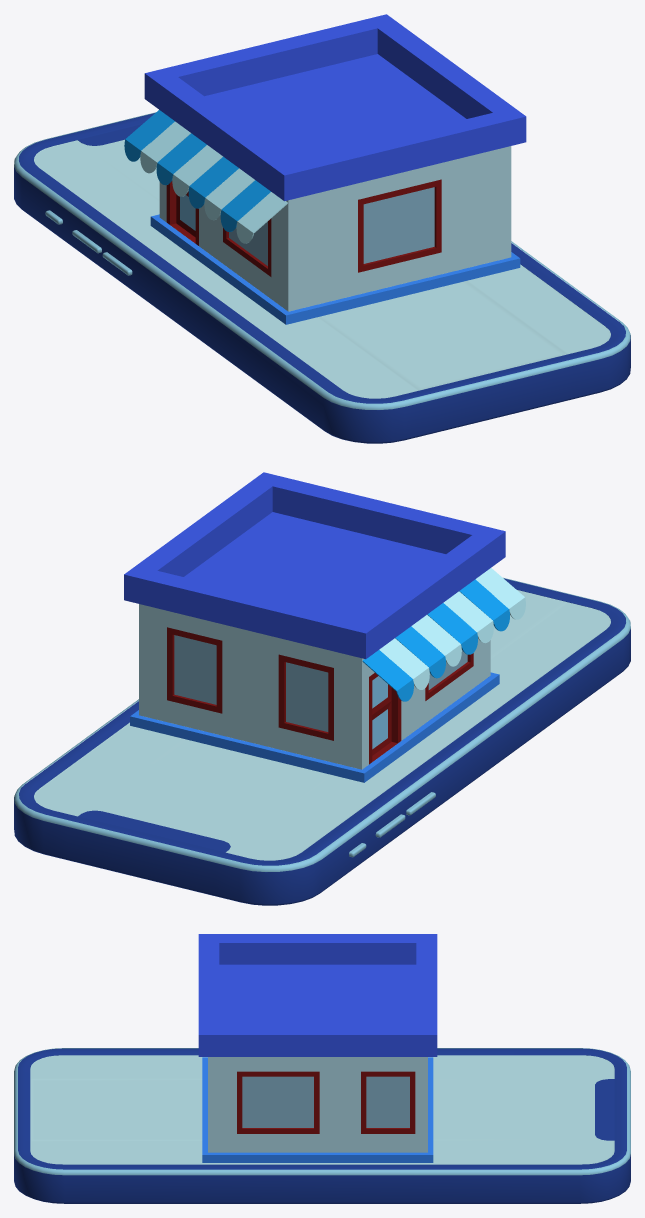
Rendered from store.gltf.
3 renders of one model, top to bottom at view 1: azimuth 30°, elevation 25°; view 2: azimuth 150°, elevation 25°; view 3: azimuth 270°, elevation 25°, orthographic. The views are drawn at different scales.
Parts seen in each view (by area): view 1: Object_10, Object_6, Object_2, Object_12, Object_3, Object_11, Object_13, Object_5, Object_4, Object_9; view 2: Object_10, Object_6, Object_2, Object_12, Object_3, Object_13, Object_11, Object_9, Object_4, Object_5, Object_7; view 3: Object_6, Object_10, Object_2, Object_12, Object_13, Object_3, Object_11, Object_9.
Part boxes in pixels (<box>): Object_10: <box>144,14,526,201</box>; Object_6: <box>34,139,610,398</box>; Object_2: <box>14,113,630,443</box>; Object_12: <box>159,146,511,311</box>; Object_3: <box>14,112,630,409</box>; Object_11: <box>150,214,520,324</box>; Object_13: <box>229,187,434,265</box>; Object_5: <box>140,121,287,243</box>; Object_4: <box>124,110,270,231</box>; Object_9: <box>166,179,441,276</box>; Object_10: <box>124,472,505,659</box>; Object_6: <box>34,590,610,860</box>; Object_2: <box>14,578,630,905</box>; Object_12: <box>139,604,490,769</box>; Object_3: <box>14,577,630,871</box>; Object_13: <box>174,635,467,731</box>; Object_11: <box>130,672,499,782</box>; Object_9: <box>167,627,473,764</box>; Object_4: <box>362,579,509,701</box>; Object_5: <box>379,568,525,689</box>; Object_7: <box>372,676,387,749</box>; Object_6: <box>30,1055,614,1164</box>; Object_10: <box>198,934,437,1056</box>; Object_2: <box>14,1048,630,1203</box>; Object_12: <box>208,1057,427,1152</box>; Object_13: <box>242,1076,409,1127</box>; Object_3: <box>14,1048,630,1175</box>; Object_11: <box>202,1057,433,1162</box>; Object_9: <box>237,1071,415,1133</box>.
Size of the model in its own units: 6.6 by 3.94 by 13.57.
